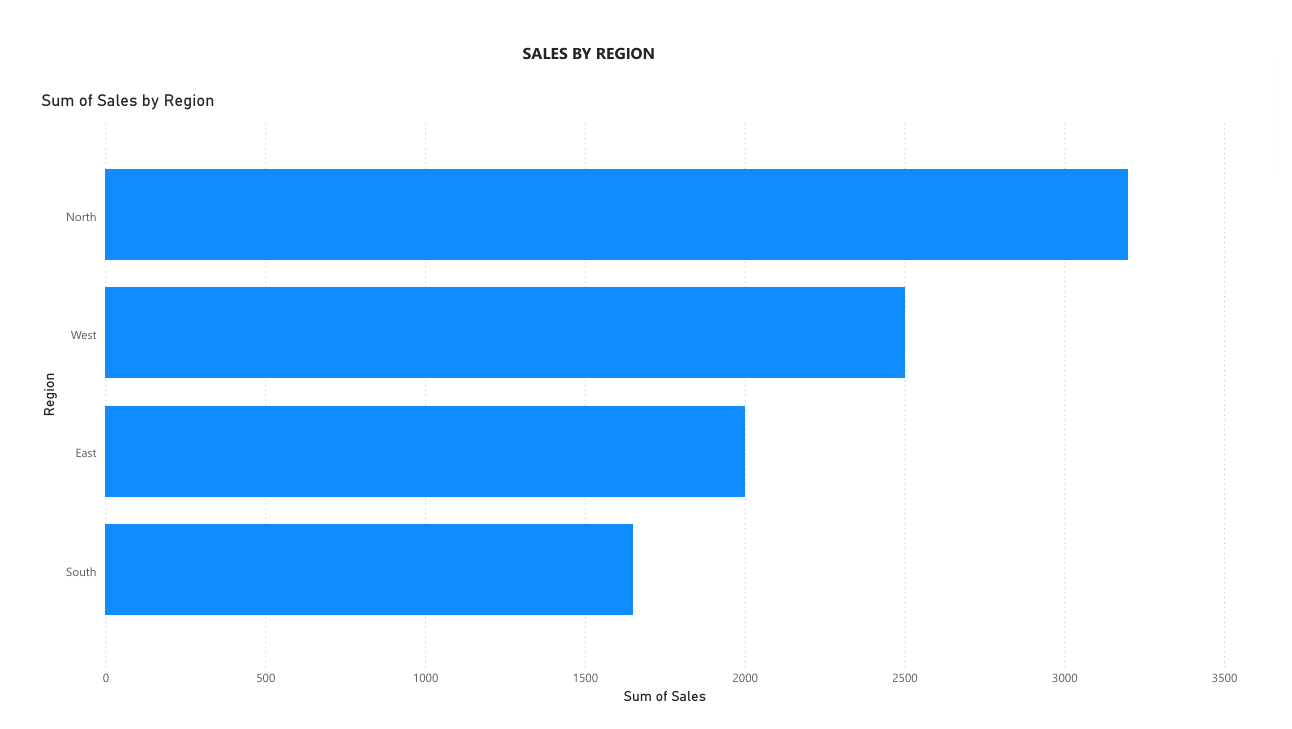

The page's visual inventory and layout, read from the dashboard file:
{"tool":"powerbi","page":{"name":"sales by region","canvas":[1280,720],"ordinal":1},"visuals":[{"type":"clusteredBarChart","fields":{"Category":["sales_data.Region"],"Y":["Sum(sales_data.Sales)"]},"box":[20,76,1222,626],"z":0},{"type":"textbox","box":[430,22,300,34],"z":1}]}

Visuals, with their boxes in screenshot pixels (x1, y1, x2, y2), scaled from the page's 1280x720 canvas onto the 1292x729 screenshot:
clusteredBarChart - sales_data.Region x Sum(sales_data.Sales): 20:77:1254:711
textbox: 434:22:737:57
